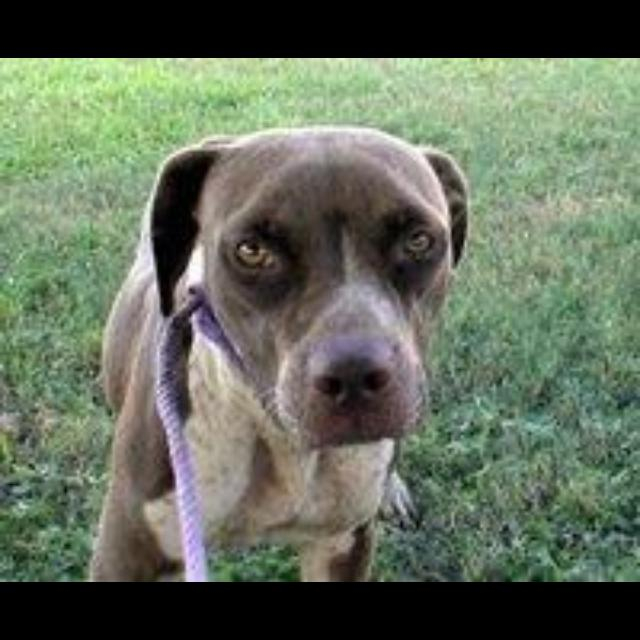amstaff: (84, 124, 468, 581)
